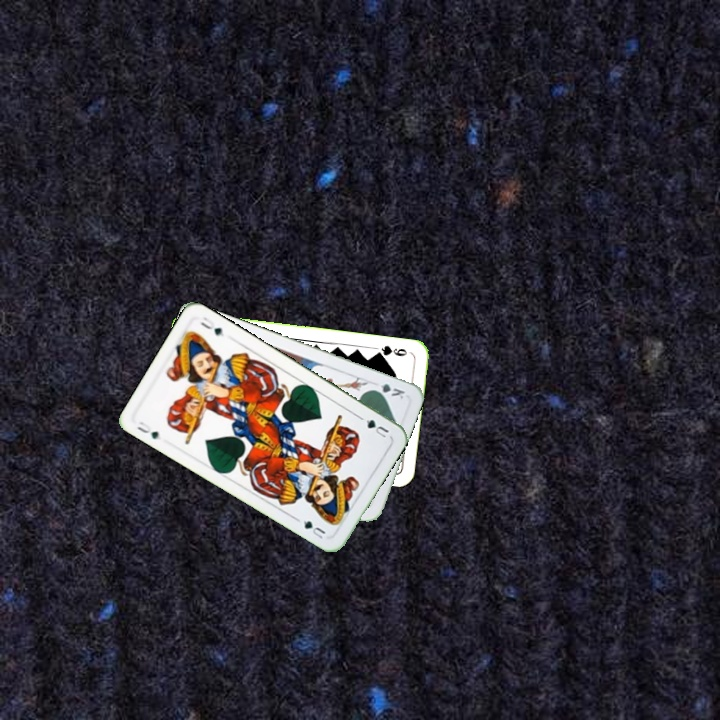G9: (372, 341, 409, 359)
GK: (367, 379, 407, 402)
GU: (356, 413, 391, 441), (132, 417, 161, 442)
